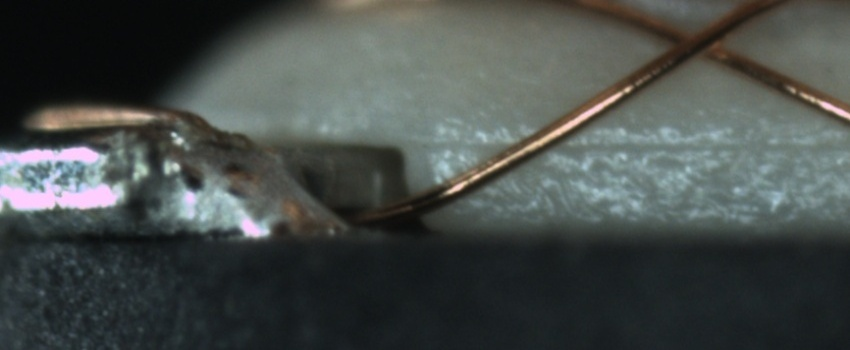CL: (652, 11, 747, 72)
DL: (399, 113, 849, 177)
TE: (22, 104, 206, 144)
